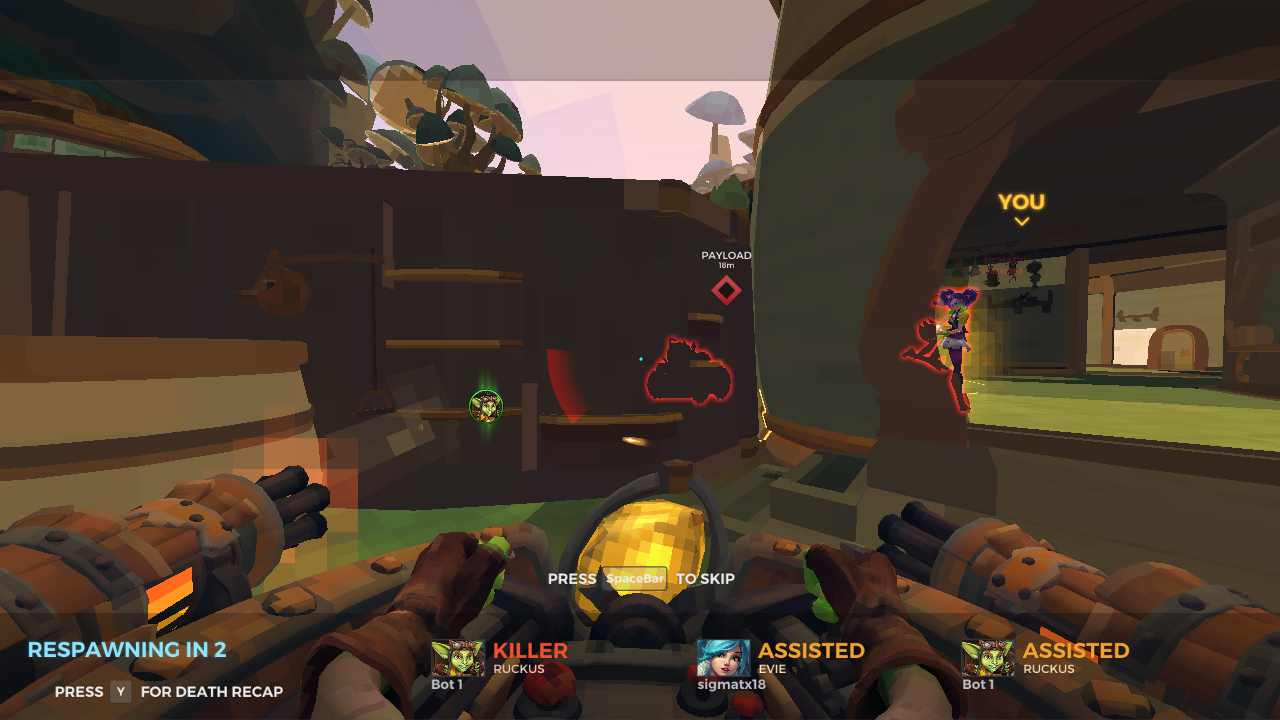model: (904, 280, 981, 413)
